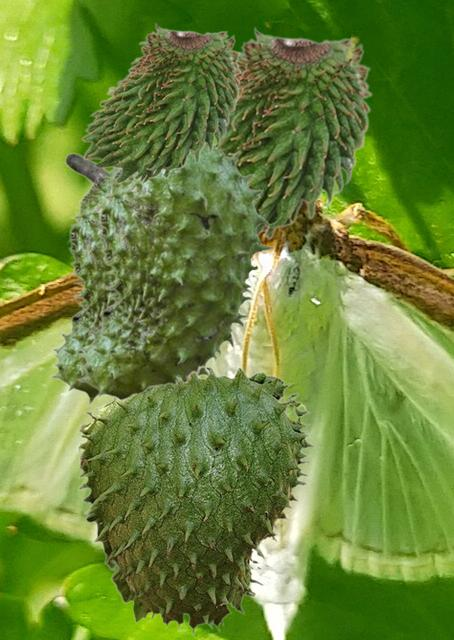guyabano: (77, 364, 315, 636), (75, 145, 276, 399), (217, 26, 372, 241), (80, 22, 241, 183), (48, 152, 114, 406)
